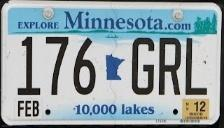1: (16, 35, 43, 96)
6: (72, 35, 98, 96)
7: (44, 35, 71, 98)
G: (129, 35, 156, 96)
L: (184, 37, 209, 96)
R: (157, 36, 184, 97)
